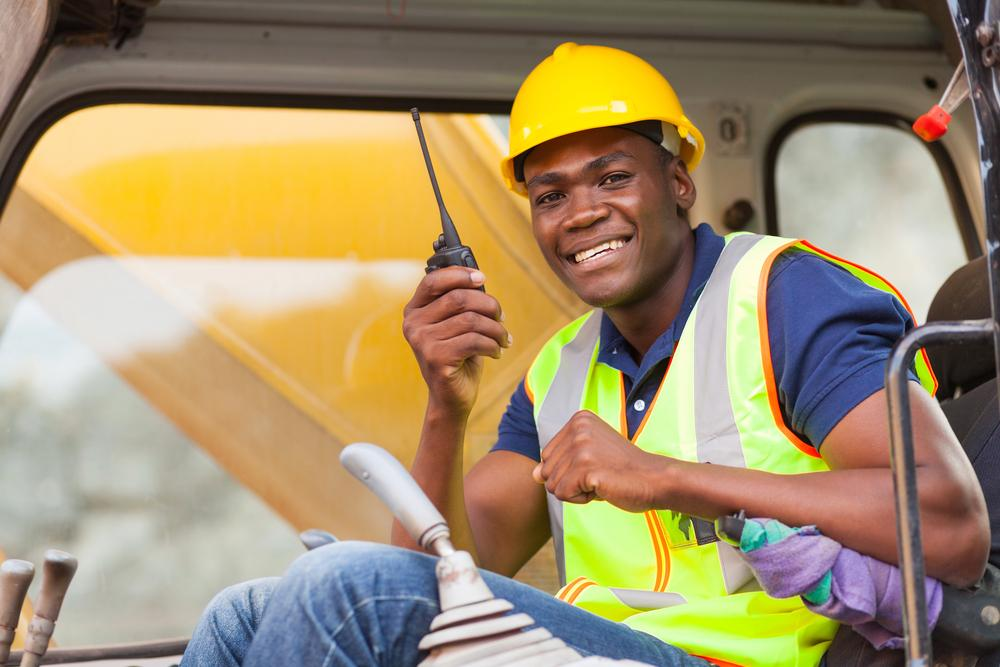helmet: (497, 43, 704, 192)
